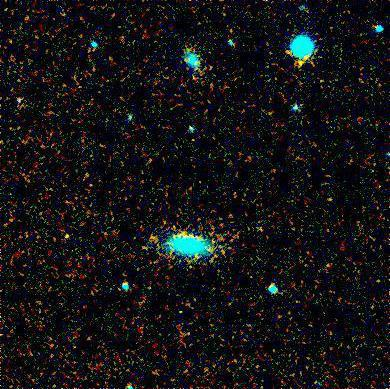star: (49, 221, 79, 251)
